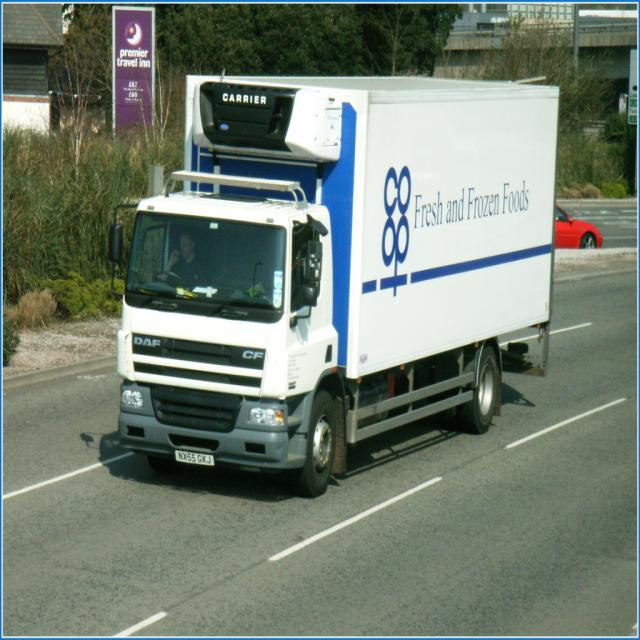Heavy Duty Truck: (107, 74, 559, 498)
